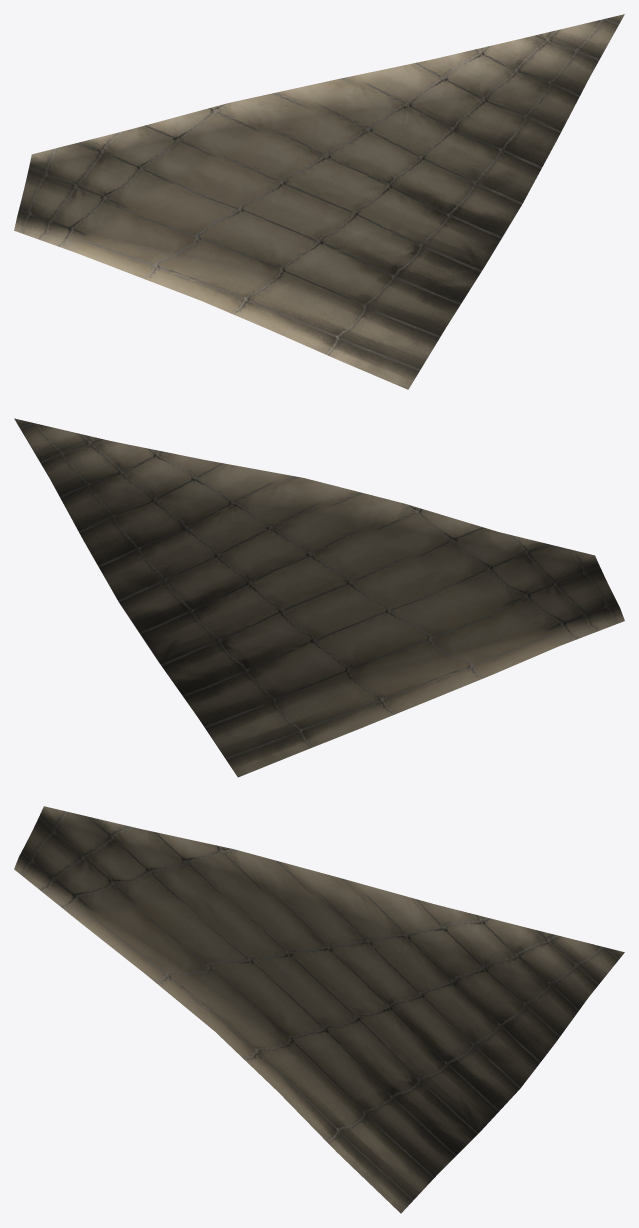
Rendered from orient_sail_front.glb.
3 renders of one model, top to bottom at view 1: azimuth 30°, elevation 25°; view 2: azimuth 150°, elevation 25°; view 3: azimuth 330°, elevation 25°, orthographic. The views are drawn at different scales.
Parts seen in each view (by area): view 1: CLOTH_orient_cargo_ship_sail_front; view 2: CLOTH_orient_cargo_ship_sail_front; view 3: CLOTH_orient_cargo_ship_sail_front.
Part boxes in pixels (bbox=[...]): CLOTH_orient_cargo_ship_sail_front: bbox=[14, 14, 624, 389]; CLOTH_orient_cargo_ship_sail_front: bbox=[14, 418, 624, 777]; CLOTH_orient_cargo_ship_sail_front: bbox=[14, 806, 624, 1213].
Size of the model in its own units: 2.99 by 1.51 by 0.077.
1 material, 1 textured.
